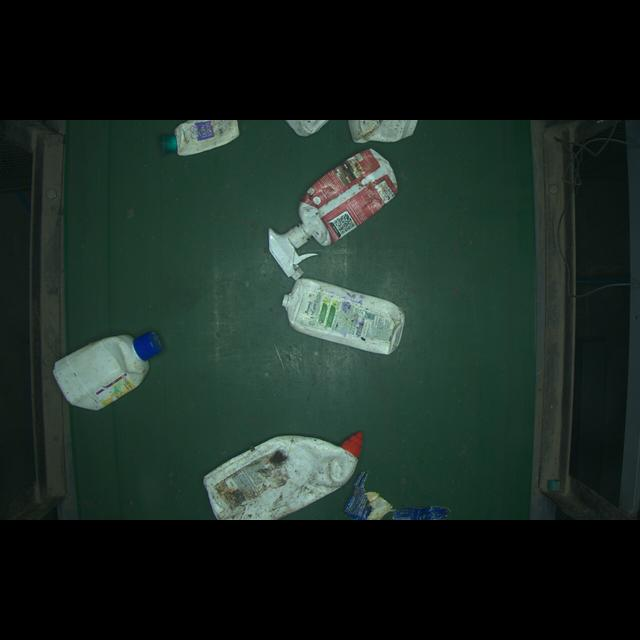mix PET: (180, 414, 370, 523), (263, 139, 403, 271), (273, 273, 432, 372), (49, 324, 175, 415), (156, 120, 253, 167)
